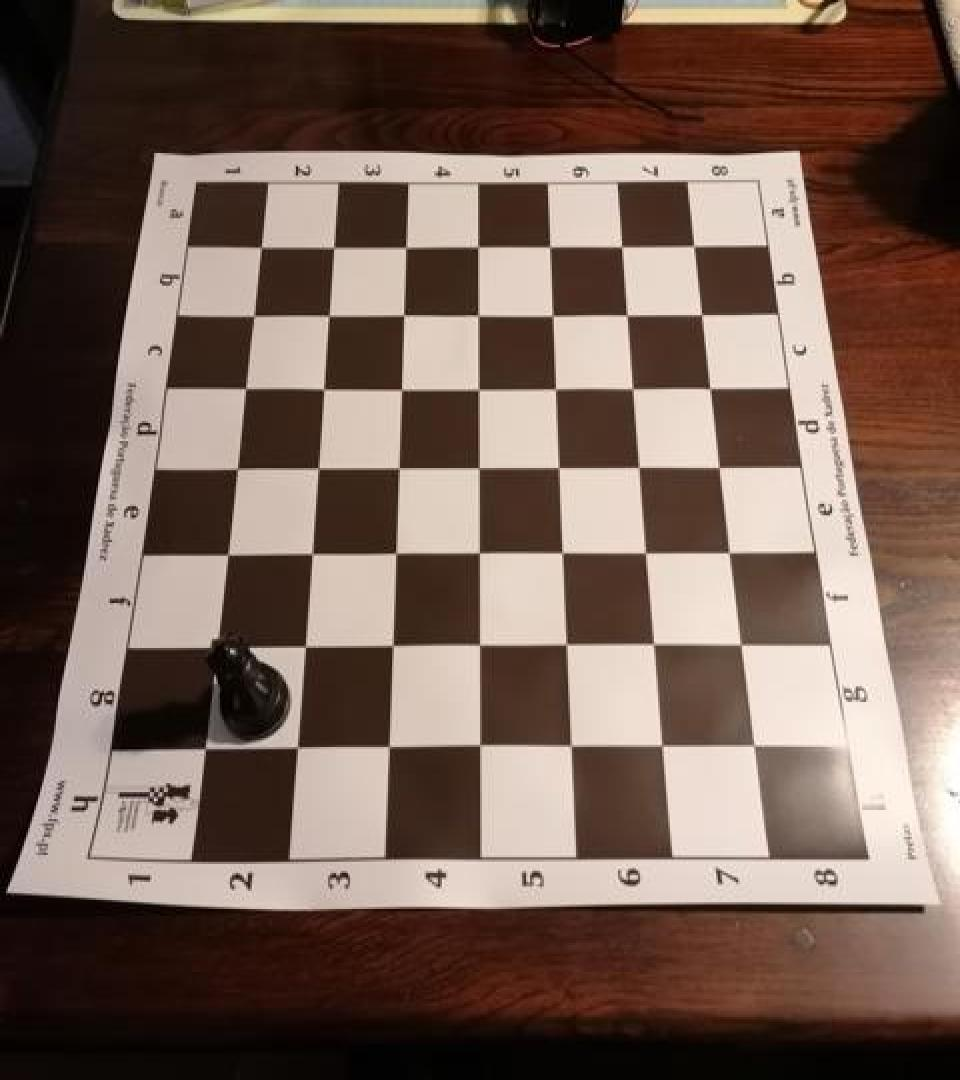xcorner: (728, 625, 760, 662), (639, 625, 671, 662), (551, 625, 583, 662), (462, 625, 494, 662), (374, 625, 406, 662), (285, 625, 317, 662), (197, 625, 229, 662), (677, 226, 709, 262), (605, 226, 637, 262), (533, 226, 565, 262), (460, 226, 492, 262), (388, 226, 420, 262), (316, 226, 348, 262), (244, 226, 276, 262), (686, 294, 718, 330), (611, 294, 643, 330), (536, 294, 568, 330), (461, 294, 493, 330), (386, 294, 418, 330), (311, 294, 343, 330), (236, 294, 268, 330), (695, 367, 727, 403), (617, 367, 649, 403), (539, 367, 571, 403), (461, 367, 493, 403), (383, 367, 415, 403), (305, 367, 337, 403), (227, 367, 259, 403), (716, 531, 748, 567), (631, 531, 663, 567), (546, 531, 578, 567), (462, 531, 494, 567), (377, 531, 409, 567), (292, 531, 324, 567), (208, 531, 240, 567), (741, 728, 773, 764), (648, 728, 680, 764), (555, 728, 587, 764), (463, 728, 495, 764), (370, 728, 402, 764), (277, 728, 309, 764), (185, 728, 217, 764), (705, 446, 737, 481), (624, 446, 656, 481), (543, 446, 575, 481), (461, 446, 493, 481), (380, 446, 412, 481), (299, 446, 331, 481), (218, 446, 250, 481)
